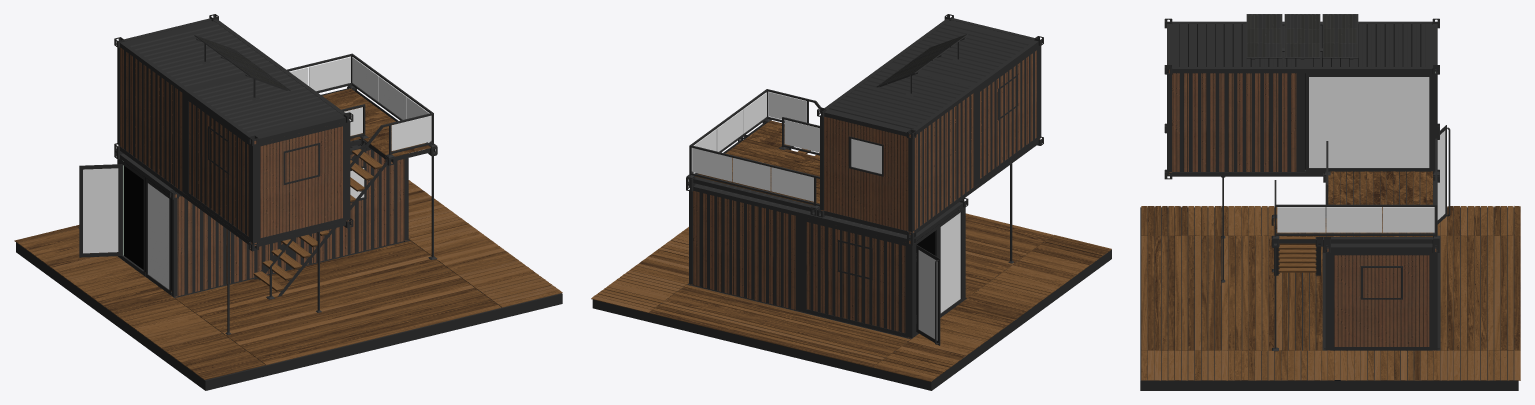
The model's file is skyline-loft.glb.
The picture shows the model from 3 angles, left to right: view 1: azimuth 30°, elevation 25°; view 2: azimuth 150°, elevation 25°; view 3: azimuth 270°, elevation 25°; orthographic projection. The views are drawn at different scales.
Visible parts, largest first — view 1: base, model_3_container_2_exterior_sealing_metal, model_3_container_2_wall_6_none_finish_wood, model_3_container_2_edges_metal, model_3_container_2_wall_2_none_finish_wood, model_3_fense_glass, model_3_container_2_wall_1_none_finish_wood, model_3_container_1_wall_2_none_finish_wood, model_3_container_1_wall_1_window_finish_wood, model_3_container_2_wall_2_none_exterior_metal, model_3_container_1_wall_3_door_left_glass, model_3_container_2_wall_1_none_exterior_metal (+17 smaller); view 2: base, model_3_container_2_exterior_sealing_metal, model_3_container_1_wall_5_none_finish_wood, model_3_container_2_wall_3_window_finish_wood, model_3_fense_glass, model_3_container_1_wall_4_none_finish_wood, model_3_container_2_edges_metal, model_3_container_1_wall_5_none_exterior_metal, model_3_container_2_wall_2_none_finish_wood, model_3_container_1_wall_4_none_exterior_metal, model_3_container_2_wall_1_none_finish_wood, model_3_container_1_edges_metal (+18 smaller); view 3: base, model_3_container_2_wall_4_balcony_glass, model_3_container_1_wall_6_none_finish_wood, model_3_container_2_wall_5_none_finish_wood, model_3_container_2_exterior_sealing_metal, model_3_container_2_wall_5_none_exterior_metal, model_3_container_2_edges_metal, model_3_solar_panel_1_solar_semic, model_3_fense_wood_2, model_3_fense_glass, model_3_container_1_edges_metal, model_3_container_2_wall_4_balcony_frame_metal (+10 smaller).
Part boxes in pixels (x1=…): base: x1=14, y1=180, x2=562, y2=390; model_3_container_2_exterior_sealing_metal: x1=124, y1=20, x2=343, y2=140; model_3_container_2_wall_6_none_finish_wood: x1=254, y1=126, x2=348, y2=246; model_3_container_2_edges_metal: x1=114, y1=14, x2=353, y2=251; model_3_container_2_wall_2_none_finish_wood: x1=118, y1=47, x2=182, y2=191; model_3_fense_glass: x1=290, y1=57, x2=431, y2=150; model_3_container_2_wall_1_none_finish_wood: x1=189, y1=101, x2=252, y2=244; model_3_container_1_wall_2_none_finish_wood: x1=174, y1=194, x2=285, y2=297; model_3_container_1_wall_1_window_finish_wood: x1=296, y1=150, x2=407, y2=264; model_3_container_2_wall_2_none_exterior_metal: x1=124, y1=50, x2=183, y2=192; model_3_container_1_wall_3_door_left_glass: x1=83, y1=168, x2=118, y2=253; model_3_container_2_wall_1_none_exterior_metal: x1=191, y1=103, x2=253, y2=244; base: x1=591, y1=213, x2=1111, y2=390; model_3_container_2_exterior_sealing_metal: x1=826, y1=20, x2=1034, y2=133; model_3_container_1_wall_5_none_finish_wood: x1=690, y1=191, x2=795, y2=309; model_3_container_2_wall_3_window_finish_wood: x1=821, y1=116, x2=911, y2=234; model_3_fense_glass: x1=691, y1=92, x2=819, y2=201; model_3_container_1_wall_4_none_finish_wood: x1=806, y1=222, x2=911, y2=338; model_3_container_2_edges_metal: x1=817, y1=14, x2=1043, y2=239; model_3_container_1_wall_5_none_exterior_metal: x1=699, y1=192, x2=798, y2=310; model_3_container_2_wall_2_none_finish_wood: x1=912, y1=93, x2=973, y2=232; model_3_container_1_wall_4_none_exterior_metal: x1=810, y1=223, x2=910, y2=332; model_3_container_2_wall_1_none_finish_wood: x1=980, y1=50, x2=1040, y2=178; model_3_container_1_edges_metal: x1=686, y1=178, x2=968, y2=339; base: x1=1140, y1=206, x2=1520, y2=390; model_3_container_2_wall_4_balcony_glass: x1=1309, y1=77, x2=1429, y2=167; model_3_container_1_wall_6_none_finish_wood: x1=1327, y1=248, x2=1436, y2=350; model_3_container_2_wall_5_none_finish_wood: x1=1168, y1=70, x2=1296, y2=174; model_3_container_2_exterior_sealing_metal: x1=1168, y1=24, x2=1436, y2=171; model_3_container_2_wall_5_none_exterior_metal: x1=1169, y1=69, x2=1299, y2=171; model_3_container_2_edges_metal: x1=1164, y1=18, x2=1439, y2=179; model_3_solar_panel_1_solar_semic: x1=1247, y1=14, x2=1357, y2=57; model_3_fense_wood_2: x1=1273, y1=171, x2=1432, y2=236; model_3_fense_glass: x1=1277, y1=207, x2=1434, y2=232; model_3_container_1_edges_metal: x1=1323, y1=133, x2=1439, y2=351; model_3_container_2_wall_4_balcony_frame_metal: x1=1305, y1=73, x2=1432, y2=172.
Size of the model in its own units: 9.21 by 6.2 by 8.51.
9 materials, 4 textured.
